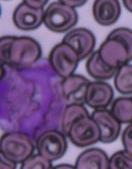E: (0, 57, 67, 144)
